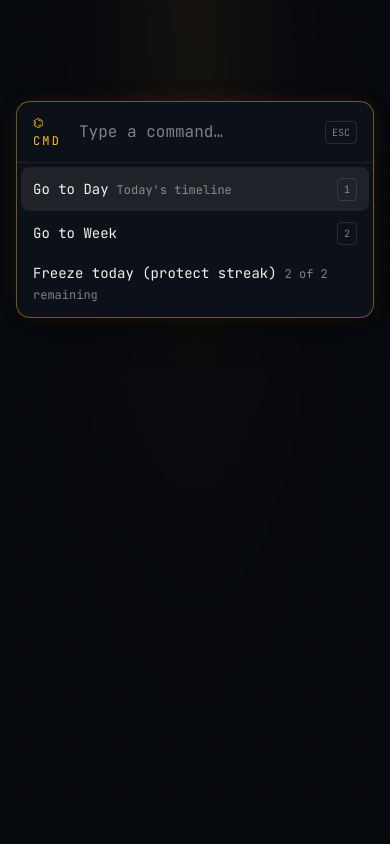
Scenario: CommandPalette › filters by label substring
This screenshot has width=390, height=844.
Type "week" into the field with test id "command-palette-input". click: (197, 132)
box: [79,120,315,144]
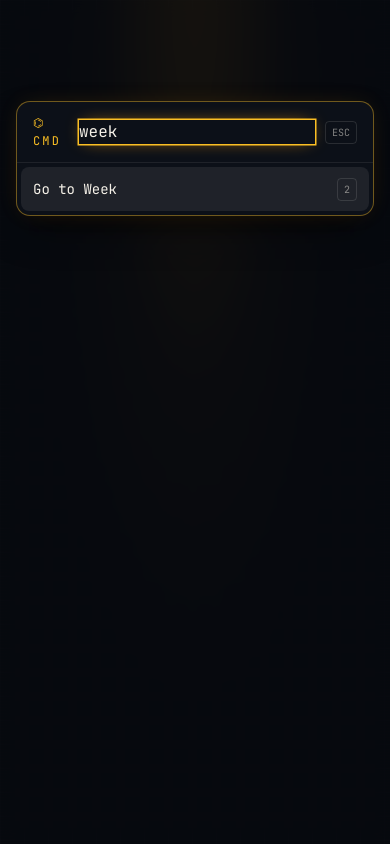
Expected: the option with test id "command-palette-item-view-week" is shown, [21,167,369,211]
Now the option with test id "command-palette-item-view-day" is gone
